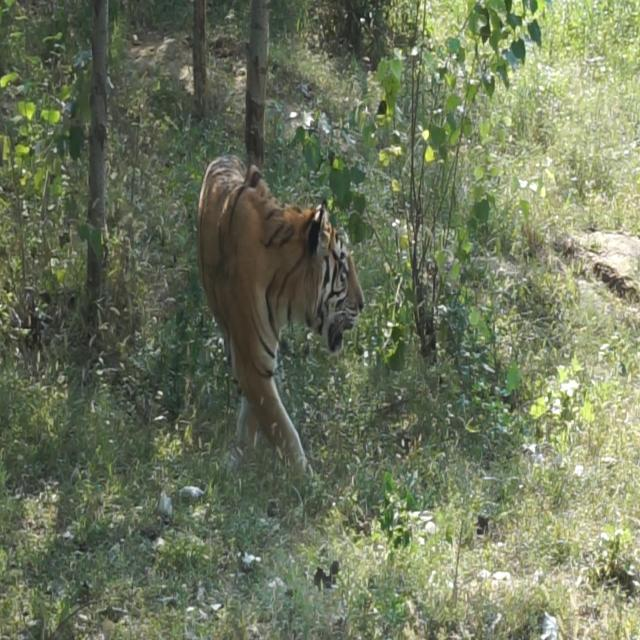Tiger: (182, 132, 396, 484)
